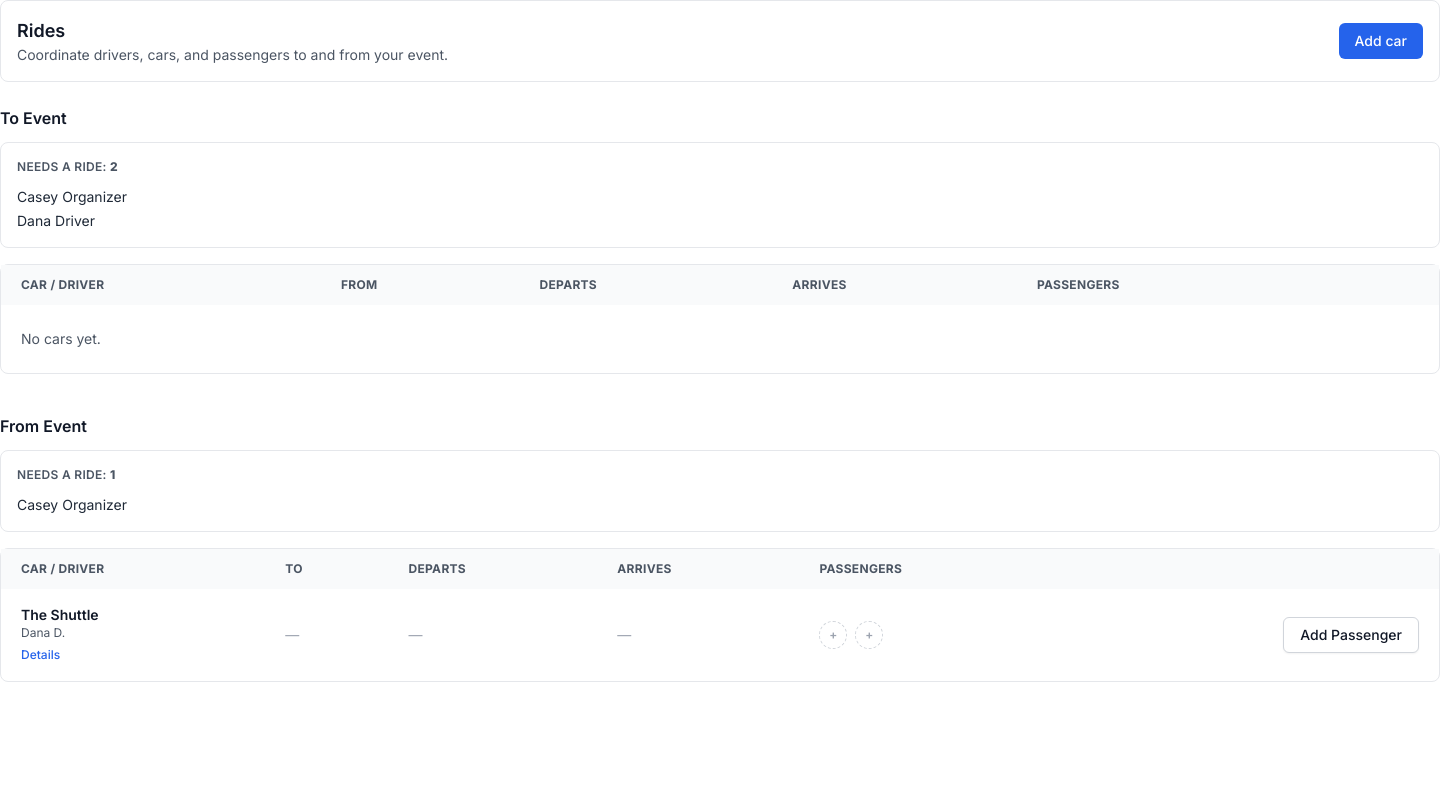
Scenario: RidesBoard › opens car details in a dialog
Expected: the text "The Shuttle" is shown, [21,606,99,623]
Click the button "Details" at [41, 655], box [21,647,60,663]
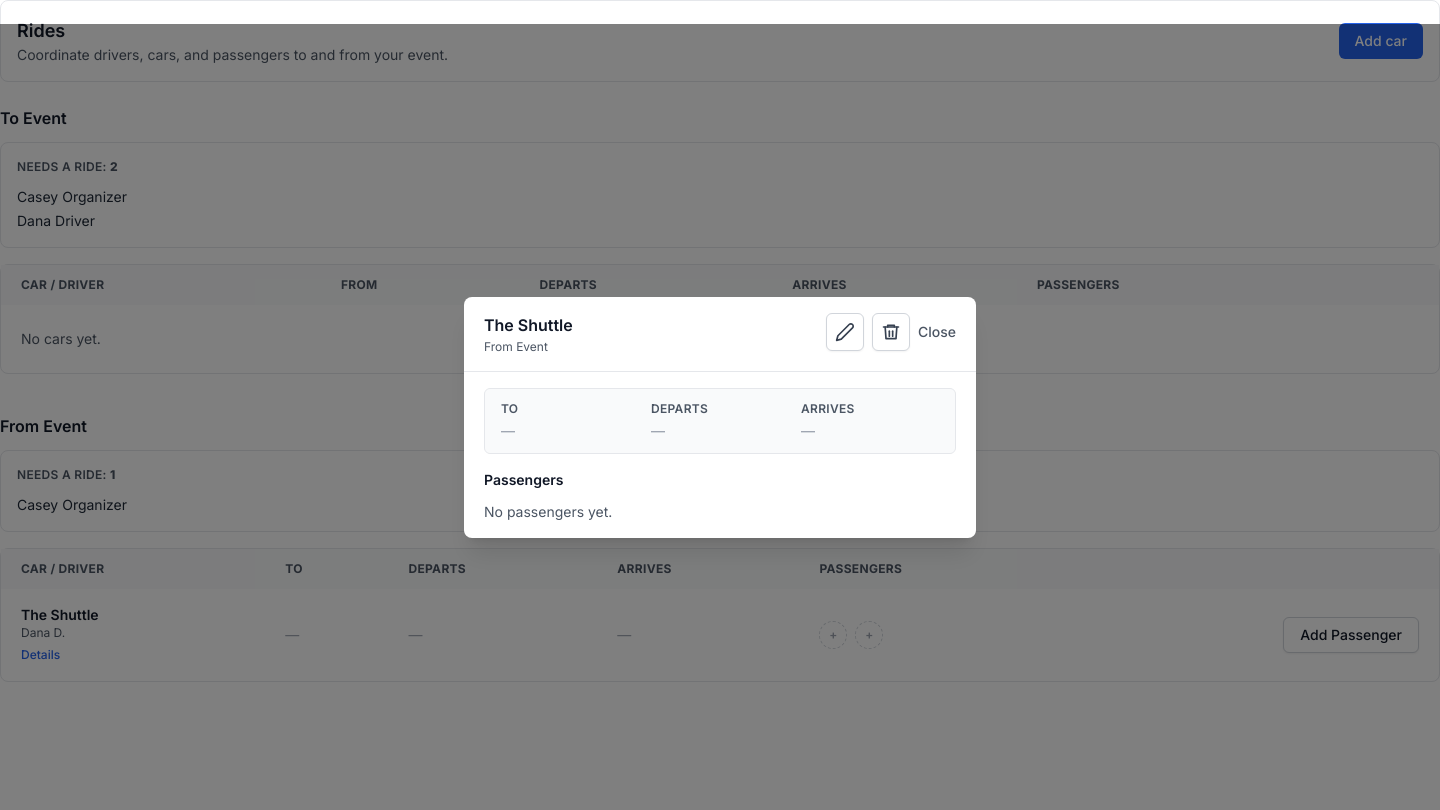
Expected: the dialog is shown, [464,296,976,538]
Expected: the button named "Edit car" is shown, [826,312,864,350]
